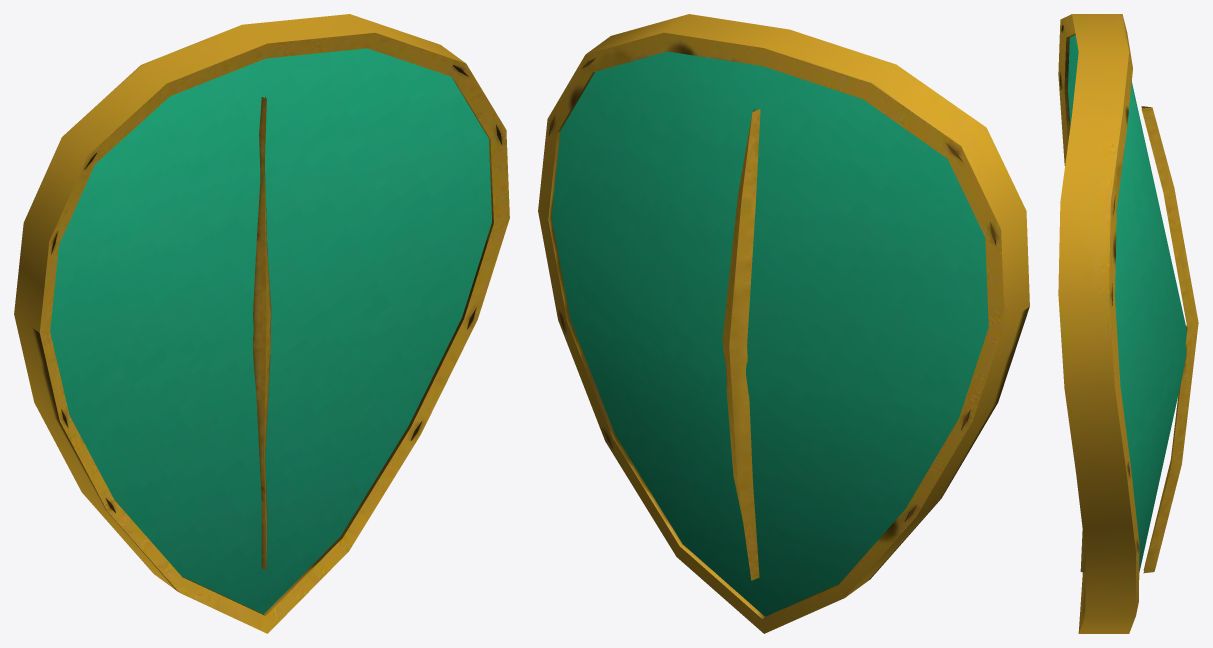
3 renders of one model, left to right at view 1: azimuth 30°, elevation 25°; view 2: azimuth 150°, elevation 25°; view 3: azimuth 270°, elevation 25°, orthographic.
Visible parts, largest first — view 1: glow_Carved_jade, Polished_gold; view 2: glow_Carved_jade, Polished_gold; view 3: Polished_gold, glow_Carved_jade.
Part boxes in pixels (x1,y1,x2,y2): glow_Carved_jade: (50, 48, 491, 614); Polished_gold: (14, 14, 509, 633); glow_Carved_jade: (551, 51, 988, 616); Polished_gold: (538, 14, 1029, 633); Polished_gold: (1058, 14, 1198, 633); glow_Carved_jade: (1068, 35, 1186, 572).
Bounding box in the file's own units: 0.72 × 0.864 × 0.1887.
Materials: 3 (3 with a texture image).
